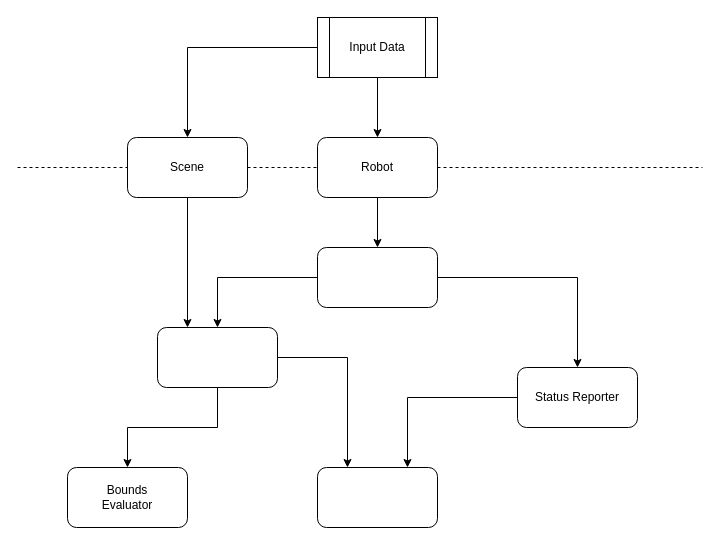
Image size: 721x545. Some labels were removed from this diagram. Each missing label, with the box of its shape:
Command Executor: (316, 246, 438, 308)
Movement Processor: (156, 326, 278, 388)
Position Tracker: (316, 466, 438, 528)
